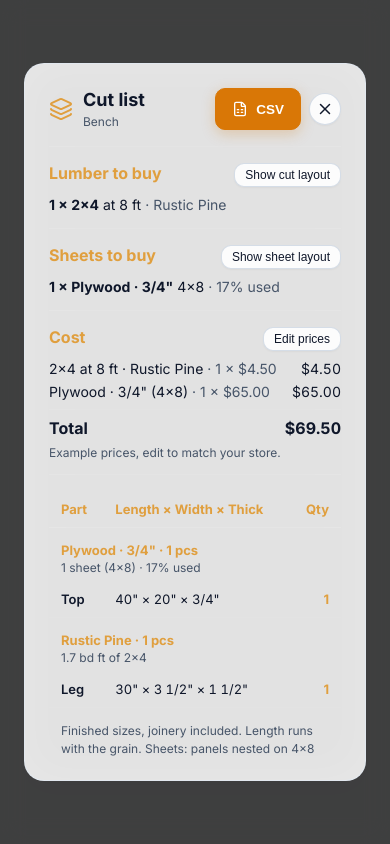
Test: Cut list → Cost and Prices › shows line costs and a total with the example note; Edit prices changes this device’s list
Check: the elements with test id "cost-line" read "2×4 at 8 ft · Rustic Pine · 1 × $4.50$4.50", "Plywood · 3/4\" (4×8) · 1 × $65.00$65.00", in this order, box top-left (49, 357), bottom-right (341, 380); top-left (49, 380), bottom-right (341, 403)
Check: the element with test id "cost-total" reads "Total $69.50", box top-left (49, 416), bottom-right (341, 440)
Click the button with test id "cost-edit-prices".
click(302, 339)  # box top-left (263, 327), bottom-right (341, 351)
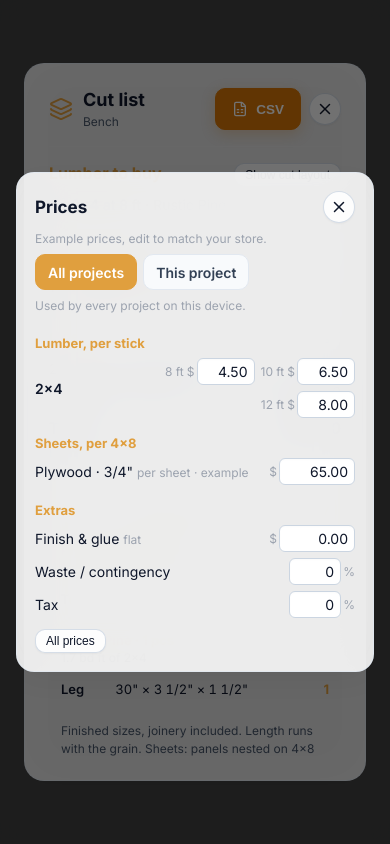
Check: the text with test id "price-example-note" reads "Example prices, edit to match your store.", box top-left (35, 231), bottom-right (267, 246)
Check: the field with test id "price-stick:2×4:96" holds "4.50"
Replace the text in the field with test id "price-stick:2×4:96" with "5.25" at [226, 372], box top-left (196, 358), bottom-right (254, 385)
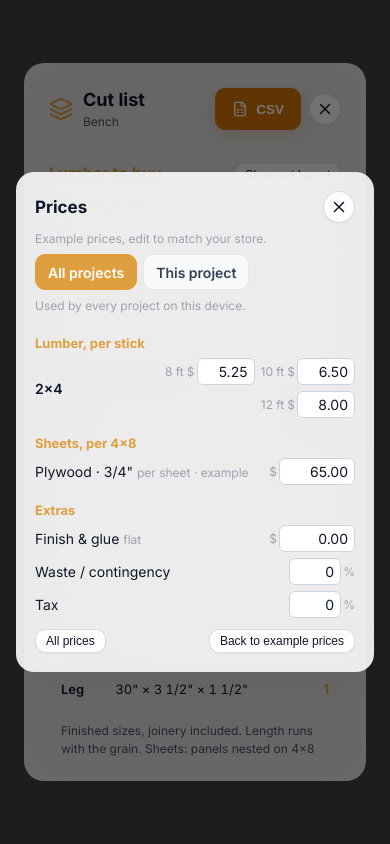
Replace the text in the field with test id "price-sheet:plywood:0.75" with "$58" at [317, 472], box top-left (279, 458), bottom-right (355, 485)
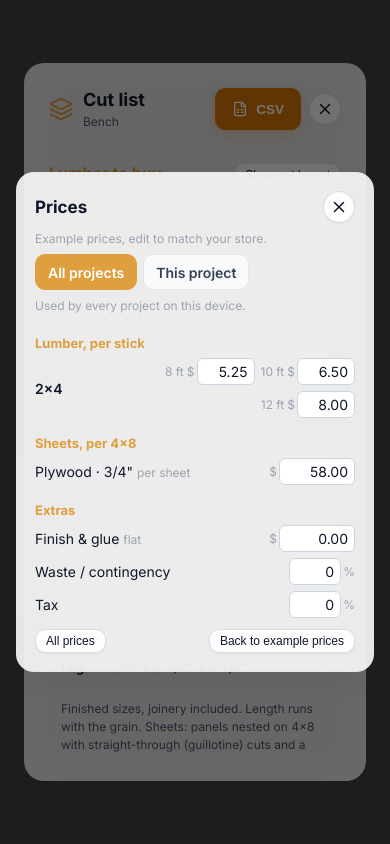
Replace the text in the field with test id "price-taxPct" with "8" at [315, 604], box top-left (289, 591), bottom-right (341, 618)
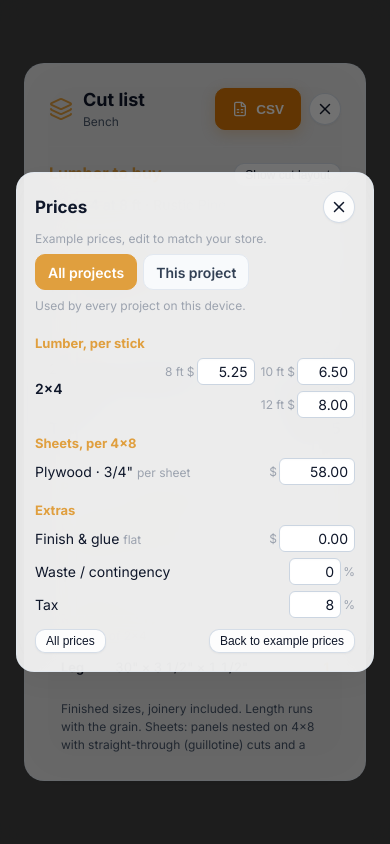
Leave the field with test id "price-taxPct", box top-left (289, 591), bottom-right (341, 618)
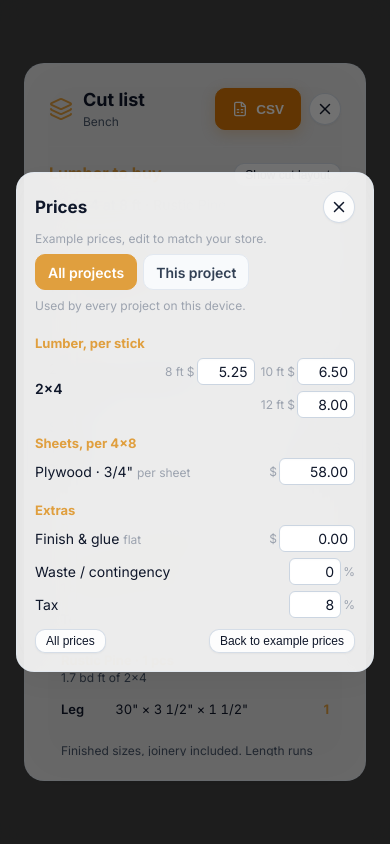
Check: the element with test id "cost-total" reads "Total $68.31", box top-left (49, 458), bottom-right (341, 482)
Click the button with test id "price-show-all".
click(70, 641)  # box top-left (35, 629), bottom-right (106, 653)
(page scrolled)
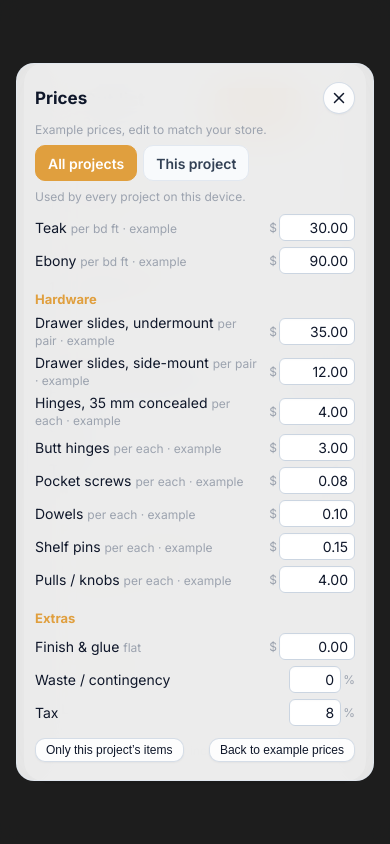
Check: the field with test id "price-hw:pull" is shown, box top-left (279, 566), bottom-right (355, 593)
